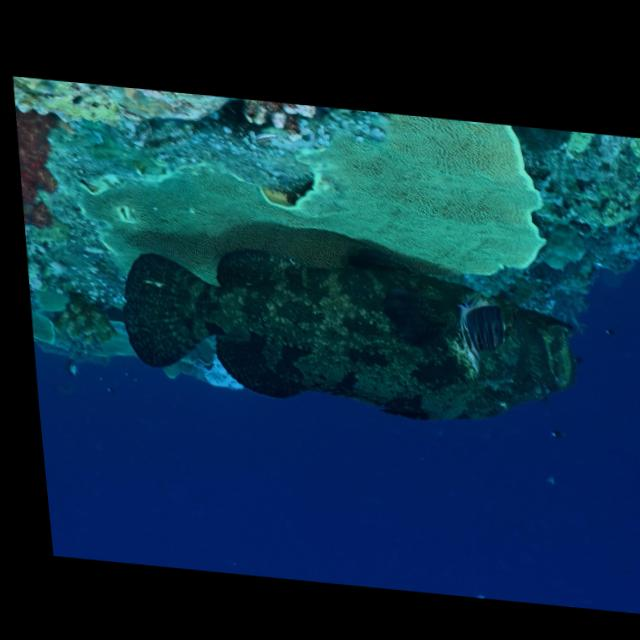Groupers: (113, 223, 586, 441)
